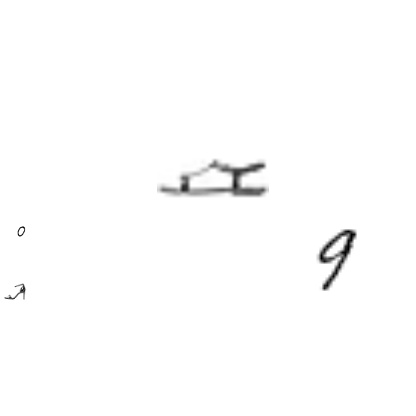0: (14, 224, 28, 238)
9: (293, 212, 377, 296)
Sandal: (157, 120, 269, 232), (4, 280, 26, 302)
